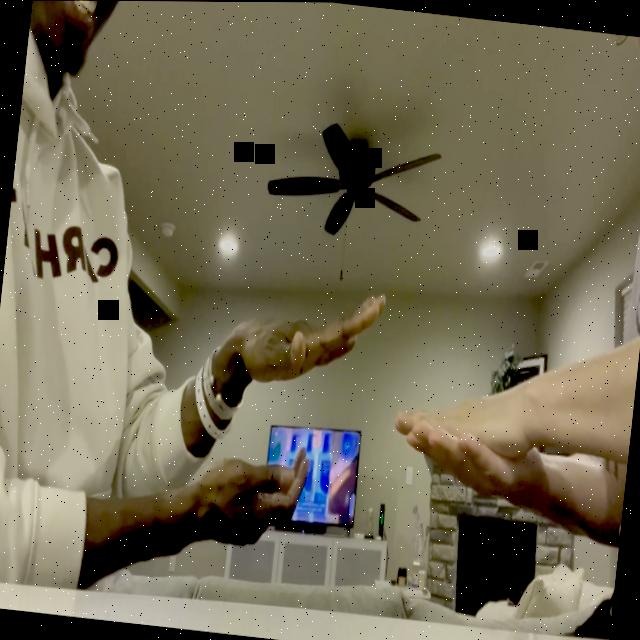Paper: (230, 273, 386, 397), (408, 375, 531, 449)
